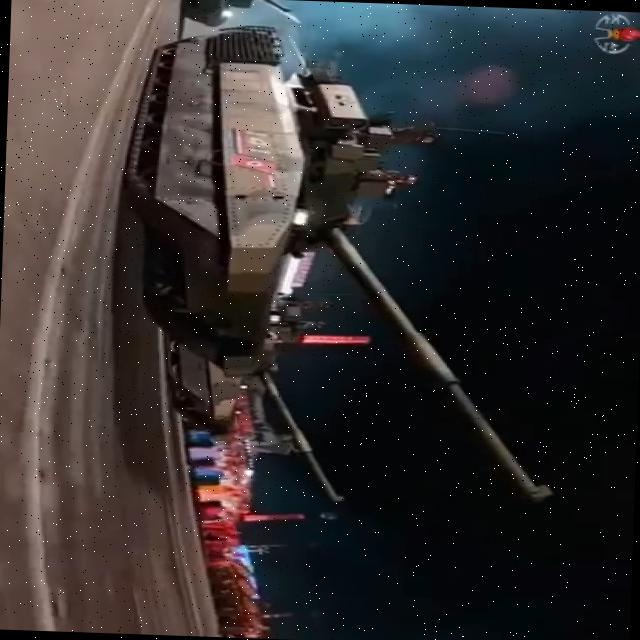north tank: (104, 0, 579, 507), (132, 292, 365, 509)
